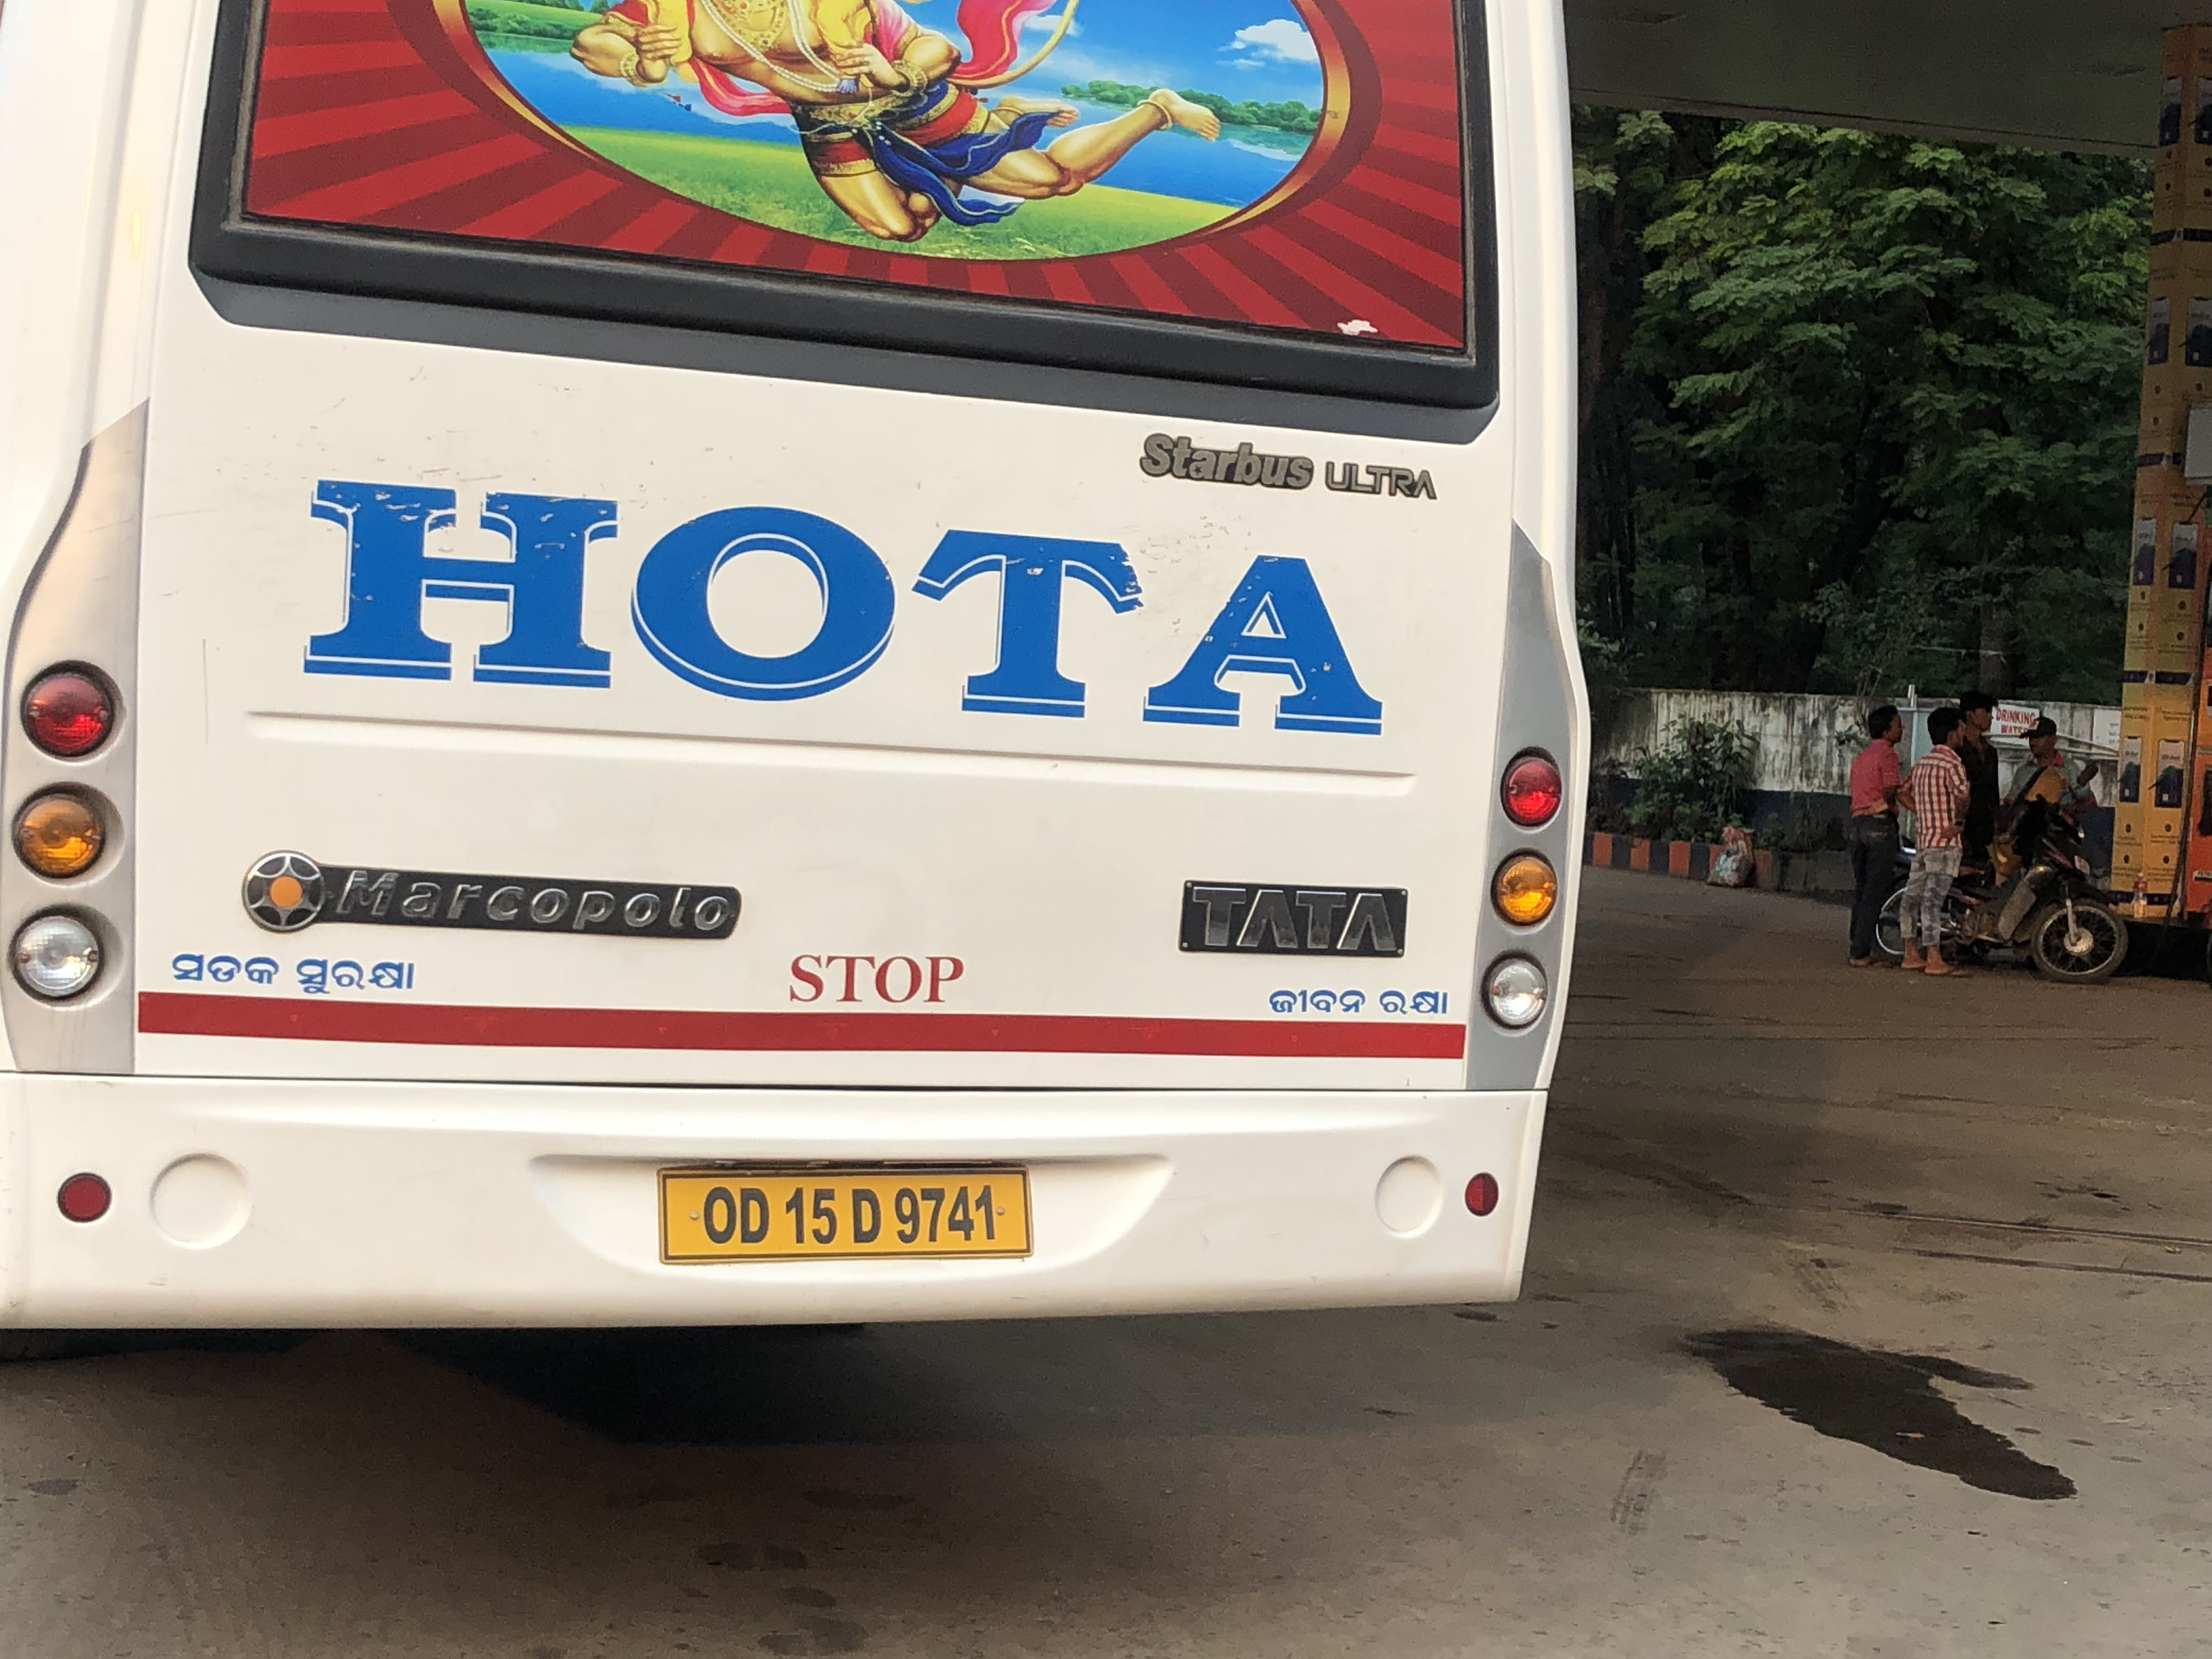licenseplate: (651, 1146, 1046, 1268)
